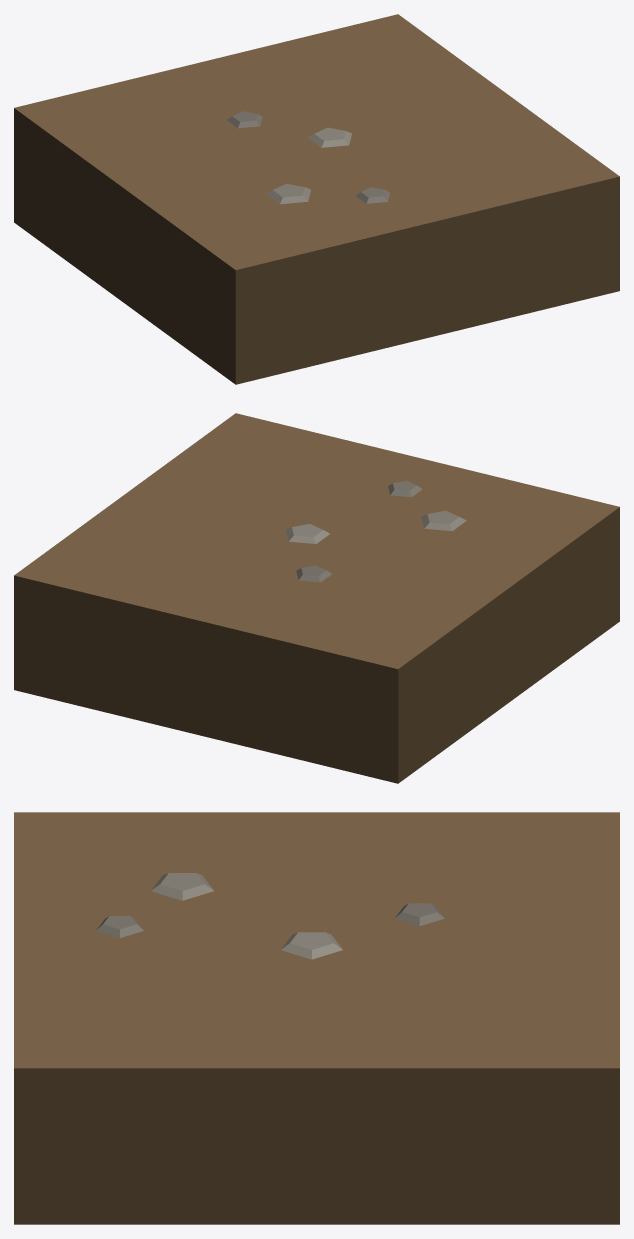
Rendered from tile_road_2.glb.
The picture shows the model from 3 angles, top to bottom: view 1: azimuth 30°, elevation 25°; view 2: azimuth 150°, elevation 25°; view 3: azimuth 270°, elevation 25°; orthographic projection. The views are drawn at different scales.
Visible parts, largest first — view 1: tile_road_2; view 2: tile_road_2; view 3: tile_road_2.
Boxes of the visible parts, box(x1,y1,x2,y2) form: tile_road_2: box(14, 14, 619, 384); tile_road_2: box(14, 413, 619, 783); tile_road_2: box(14, 812, 619, 1224).
Bounding box in the file's own units: 1 × 0.3 × 1.
